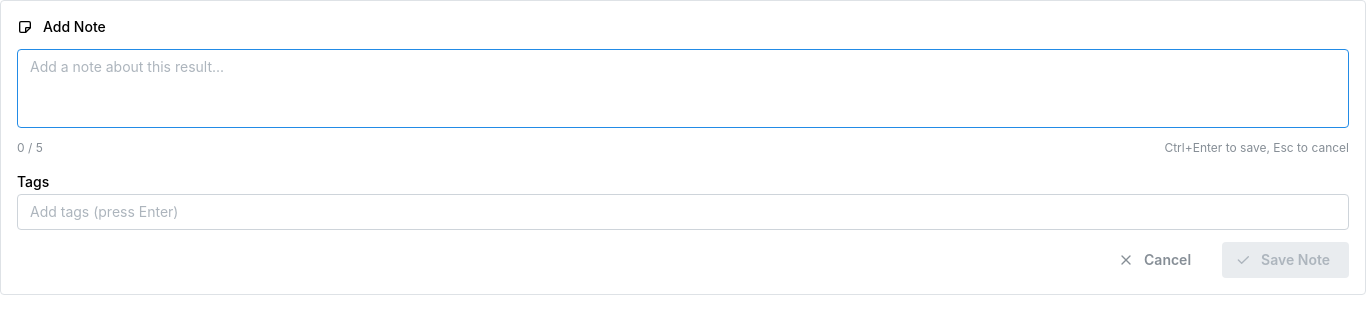
NoteEditor › content input › should not allow content beyond maxLength
The width and height of the screenshot is (1366, 312).
Type "Hello World" into the text box named "note content". click: point(683, 89)
box: [17,49,1349,128]
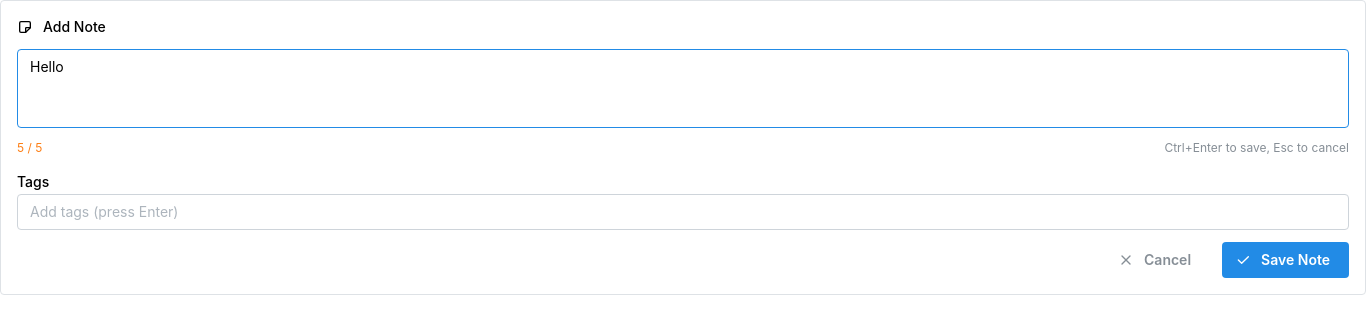
Result: the text box named "note content" holds "Hello" at [17,49,1349,128]
